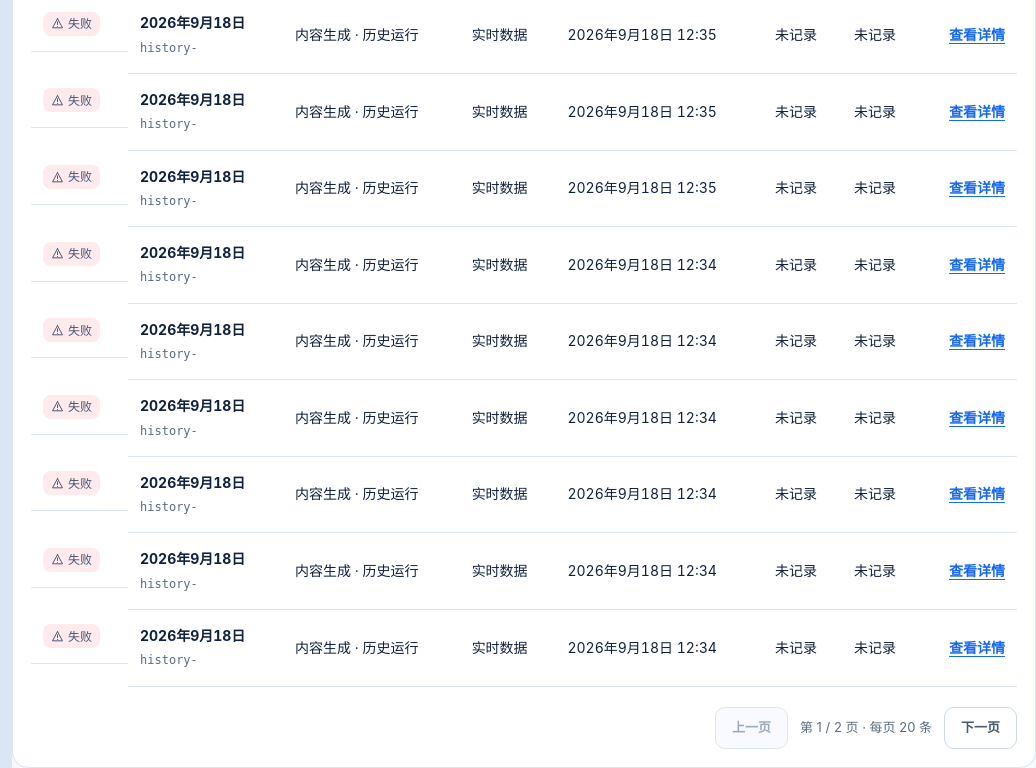
Test case: paginates recent records and preserves them if refresh fails
(page scrolled)
Click the button "下一页". click: (980, 728)
box: [944,706,1017,748]
(page scrolled)
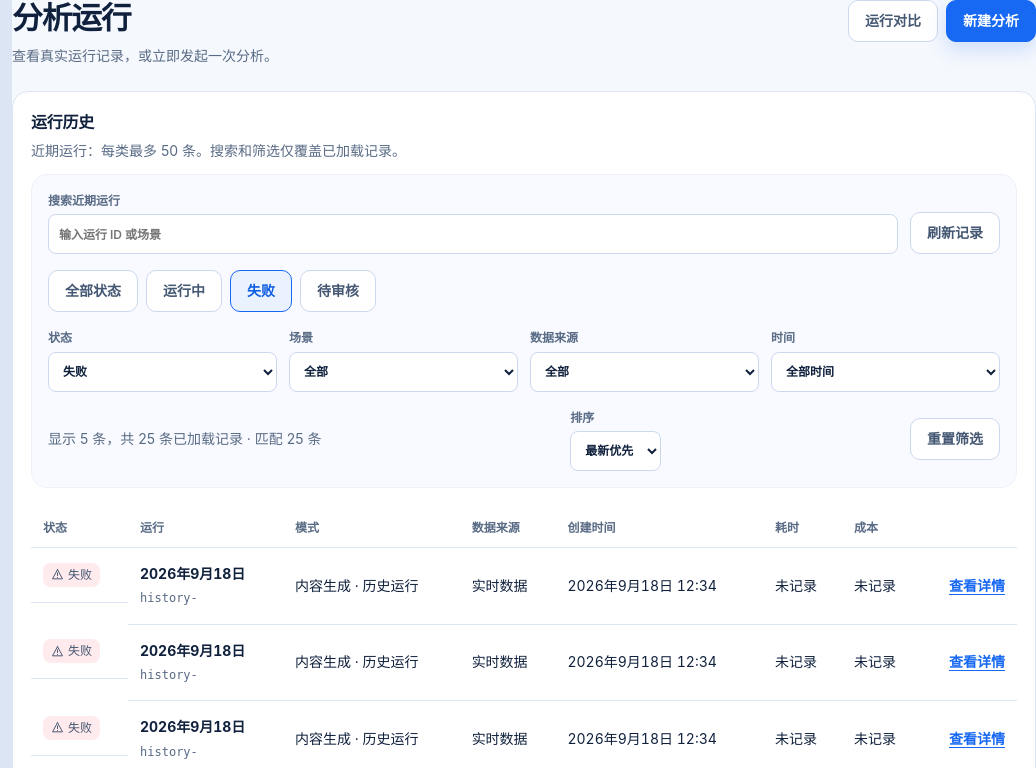
Click the button "刷新记录". click: (955, 233)
box: [910,212,1000,254]
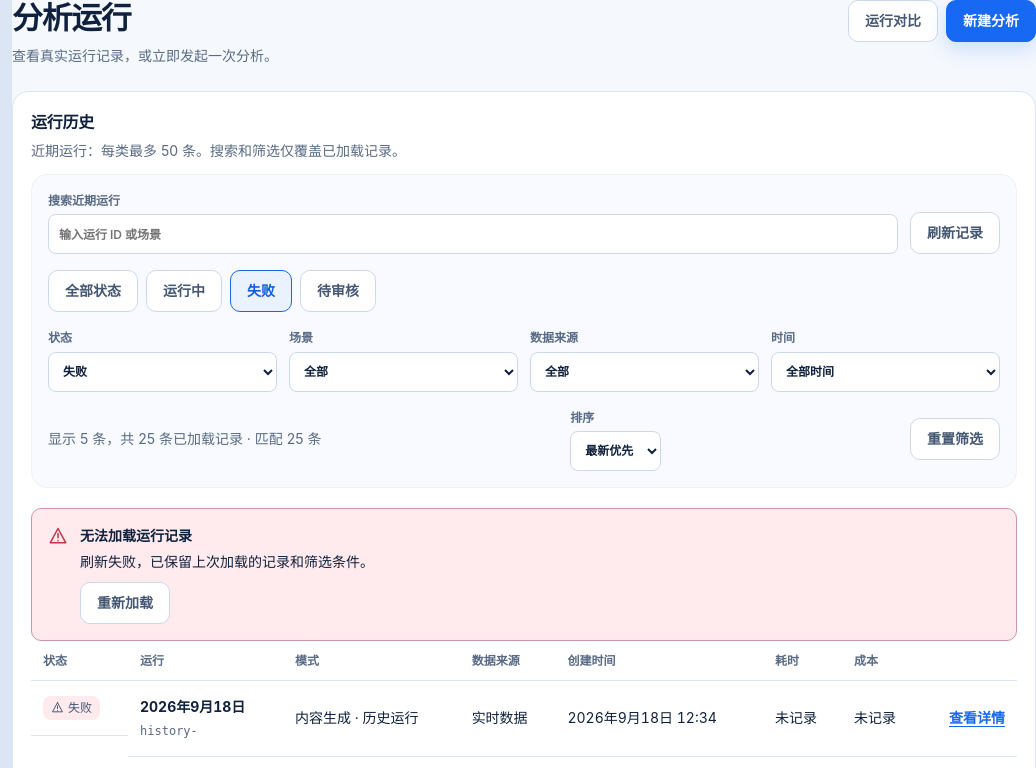
Expected: the dropdown named "按状态筛选" shows "失败", [48,352,277,392]
Expected: the message shows "保留上次加载的记录", [80,553,374,570]
